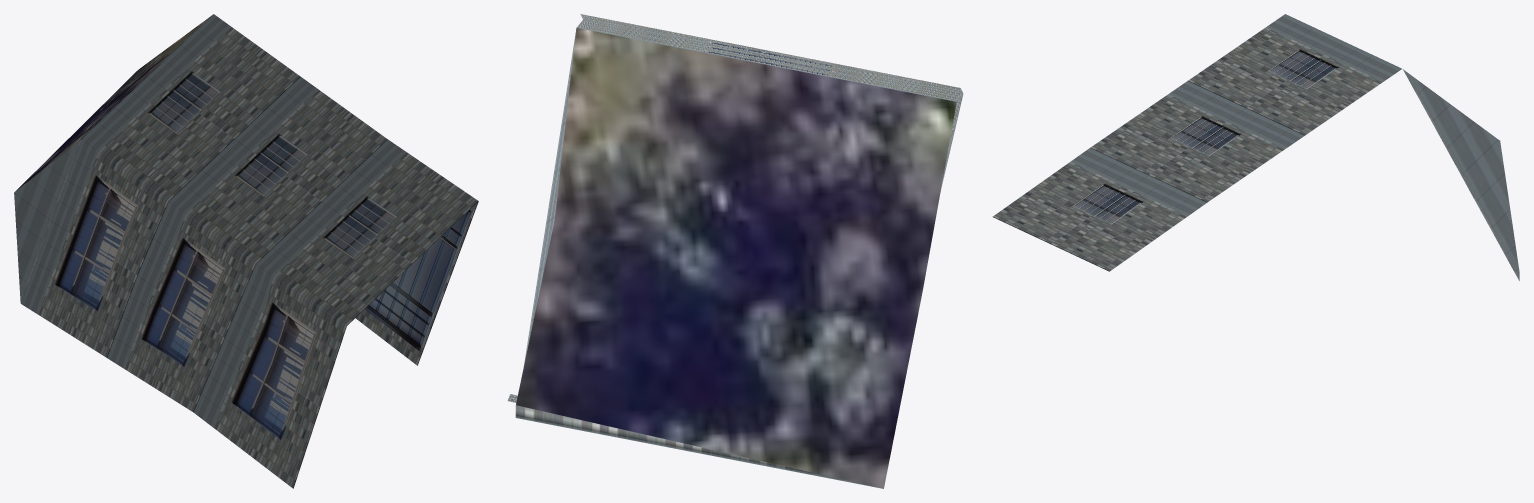
The model's file is tile_LOD8_r5_c7.glb.
3 renders of one model, left to right at view 1: azimuth 30°, elevation 25°; view 2: azimuth 150°, elevation 25°; view 3: azimuth 270°, elevation 25°, orthographic. The views are drawn at different scales.
Bounding box in the file's own units: 11 × 11.25 × 13.5.
Materials: 5 (5 with a texture image).
